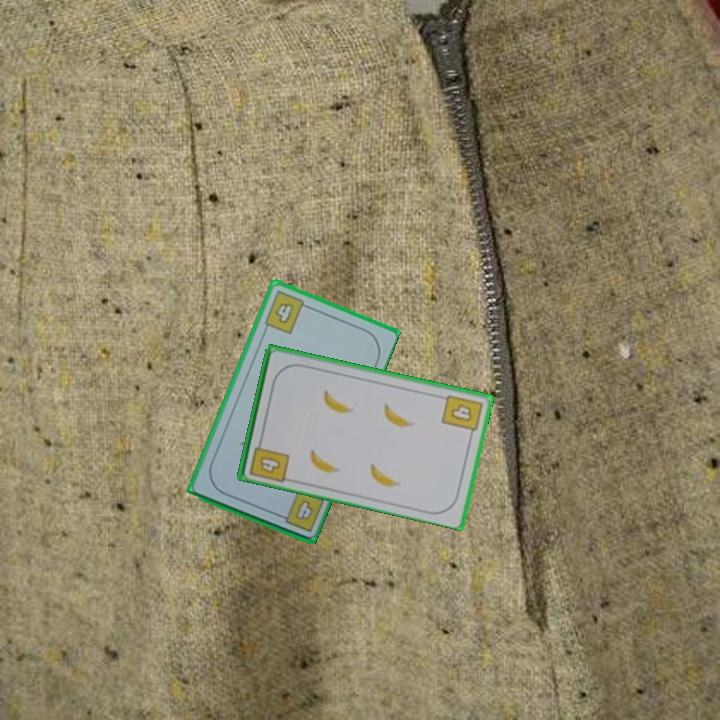4b: (273, 486, 327, 535), (260, 287, 312, 337), (246, 434, 292, 485), (438, 391, 485, 440)
